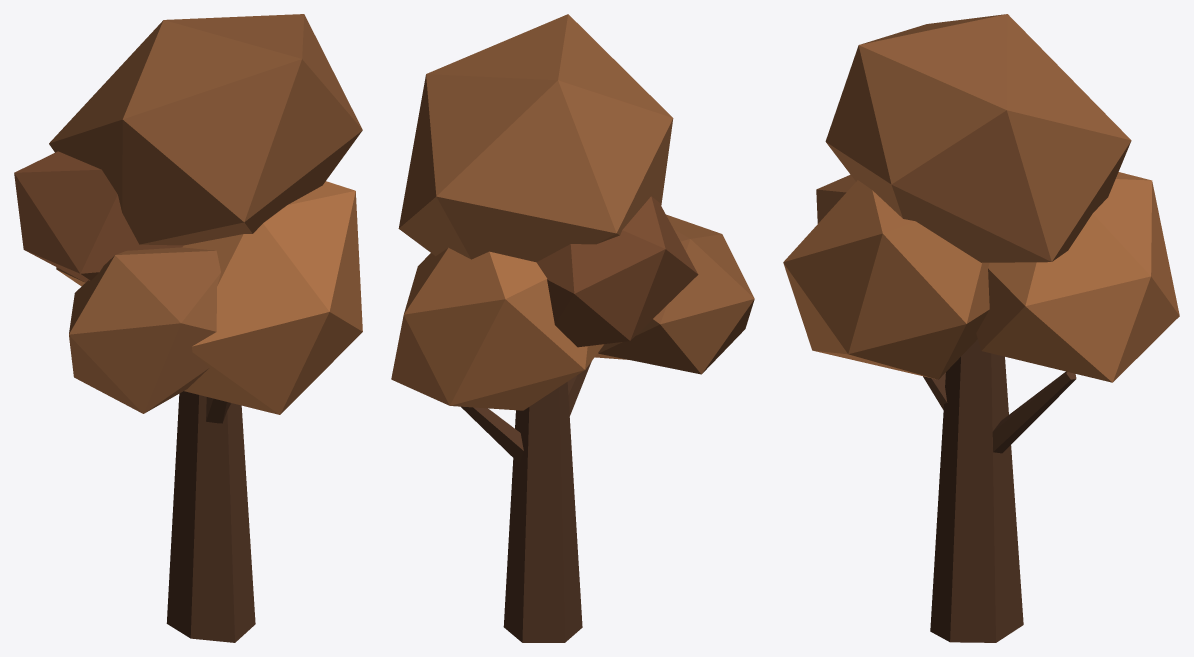
File: tree_1.glb
3 views of the same model, side by side, from view 1: azimuth 30°, elevation 25°; view 2: azimuth 150°, elevation 25°; view 3: azimuth 270°, elevation 25° (orthographic). The views are drawn at different scales.
Parts seen in each view (by area): view 1: tree_1; view 2: tree_1; view 3: tree_1.
Part boxes in pixels (bbox=[...]): tree_1: bbox=[14, 14, 362, 642]; tree_1: bbox=[391, 14, 754, 642]; tree_1: bbox=[783, 14, 1179, 642].
Bounding box in the file's own units: 1.31 × 2.54 × 1.52.
